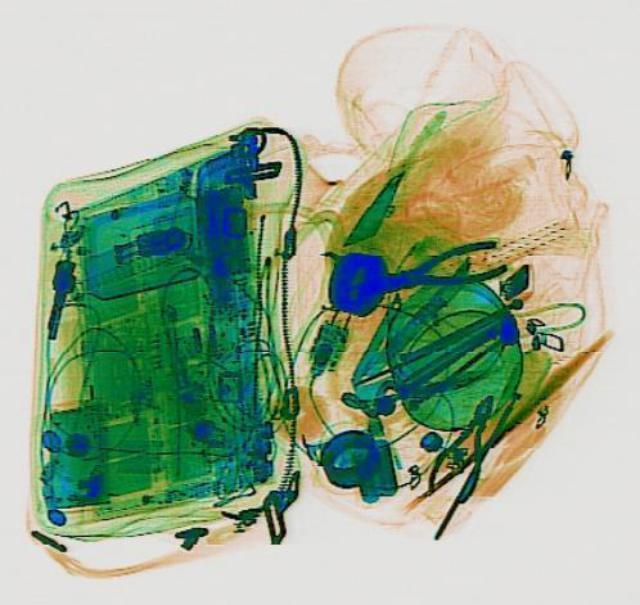Pliers: (357, 233, 508, 306), (421, 385, 512, 504)
